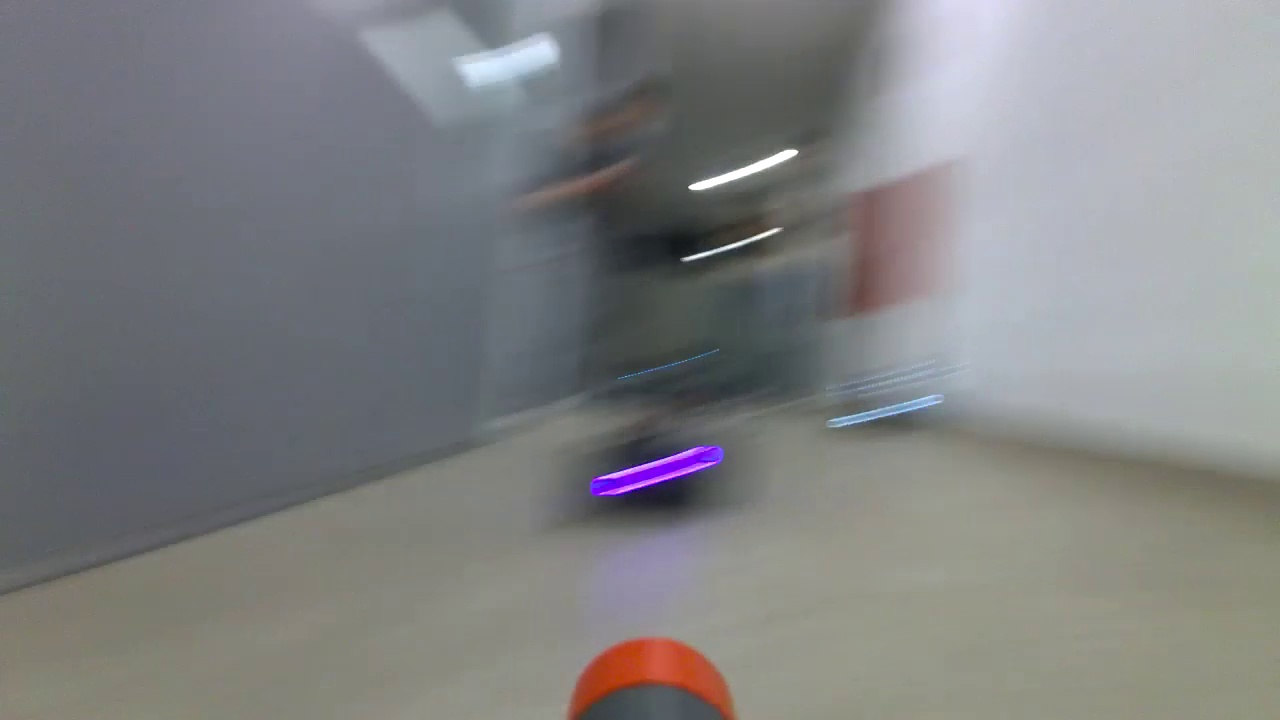robot: (586, 397, 726, 525), (830, 367, 952, 447)
